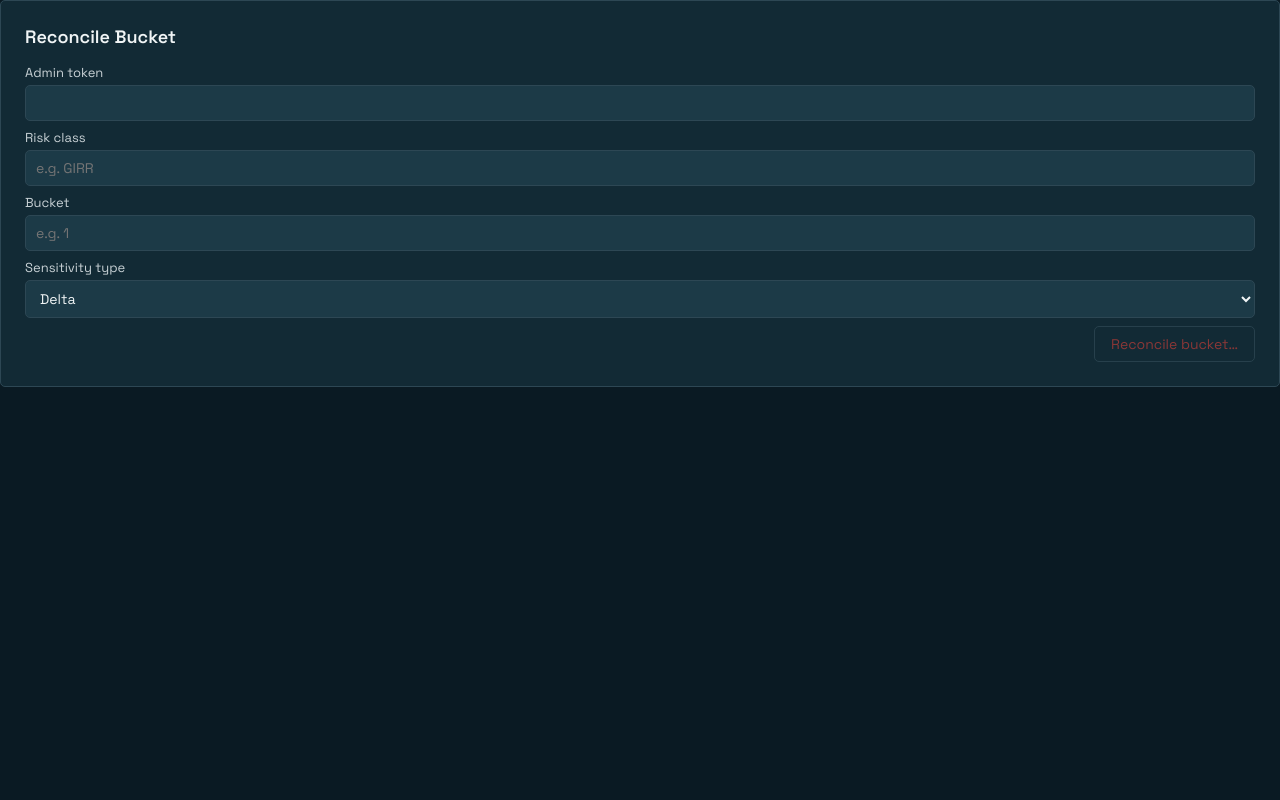
Test case: <ReconcileBucketAction /> › opens the confirm modal and requires the operator to type RECONCILE
The image size is (1280, 800).
Type "secret" into the password field with test id "reconcile-token" at {"x": 640, "y": 103}, box [25, 85, 1255, 121]
Type "GIRR" into the field with test id "reconcile-risk-class" at {"x": 640, "y": 168}, box [25, 150, 1255, 186]
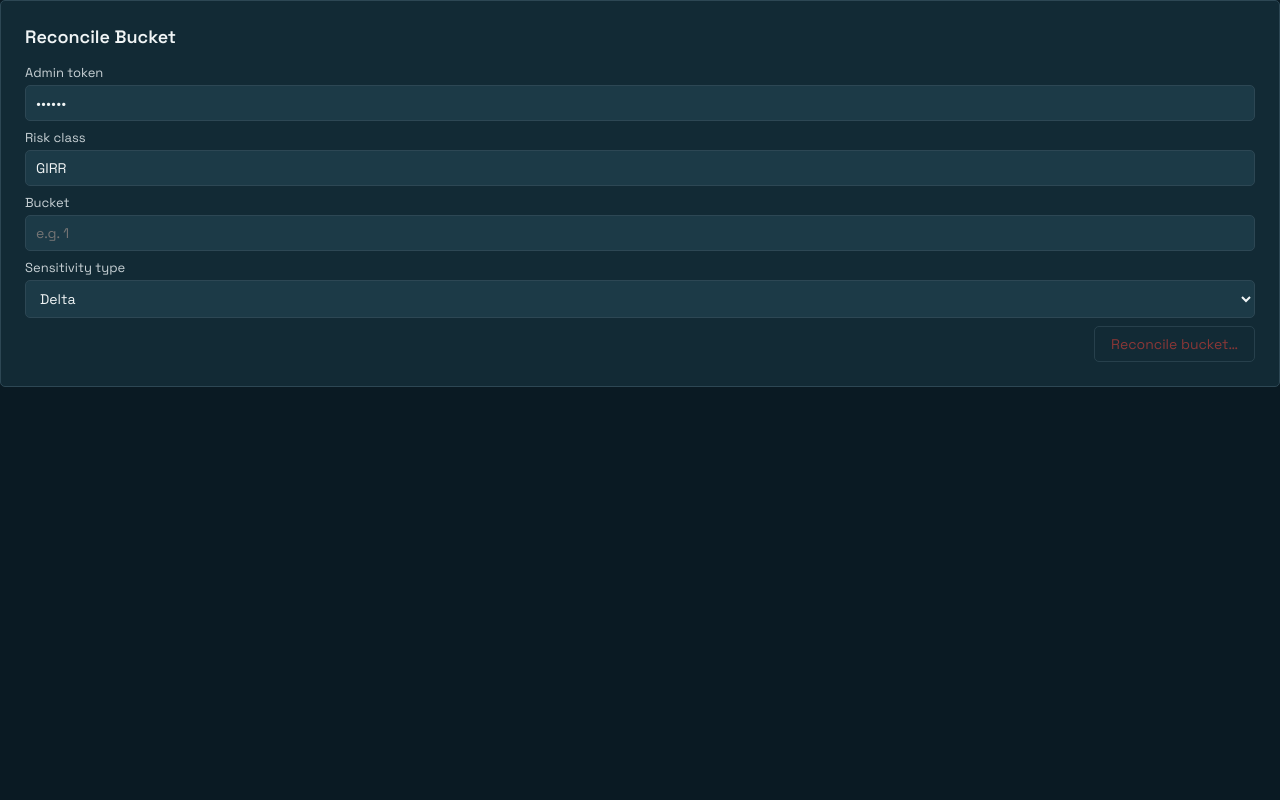
Type "1" into the field with test id "reconcile-bucket" at {"x": 640, "y": 233}, box [25, 215, 1255, 251]
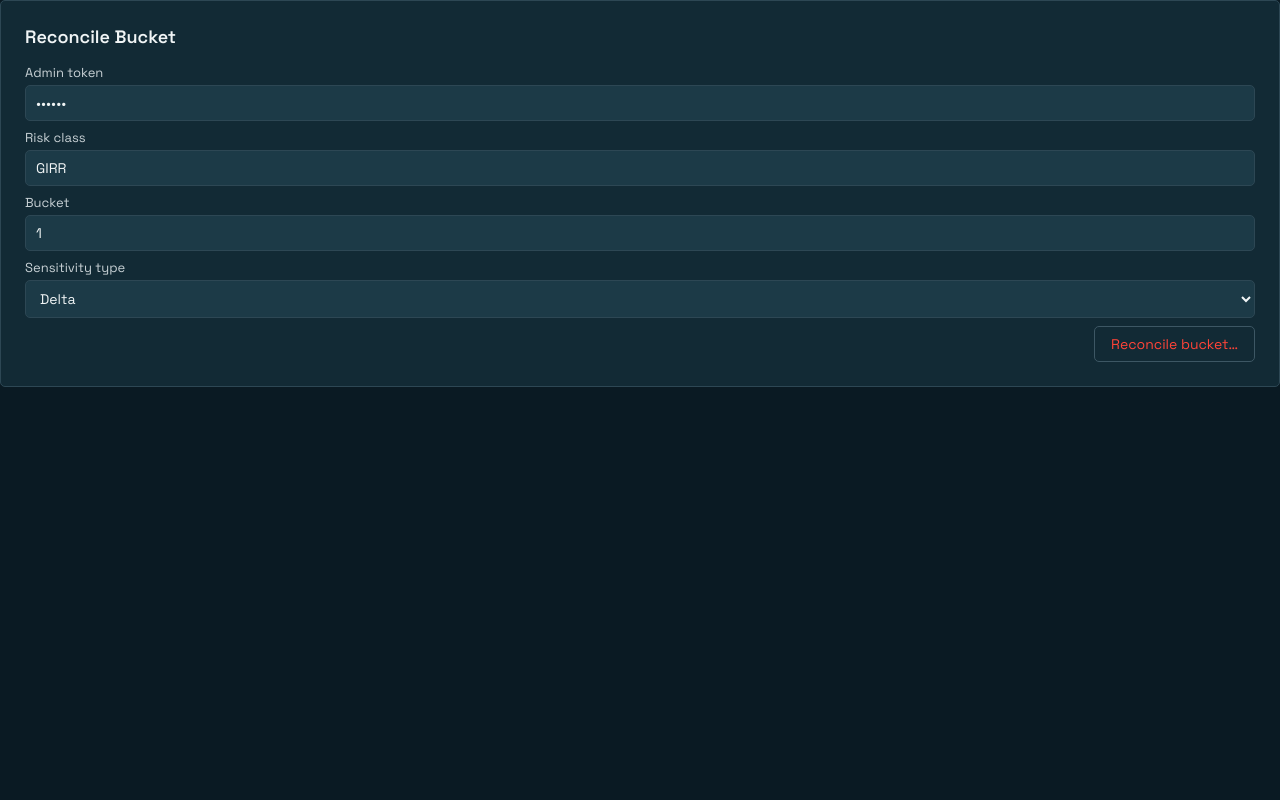
Click the button with test id "reconcile-submit" at {"x": 1175, "y": 344}, box [1094, 326, 1255, 362]
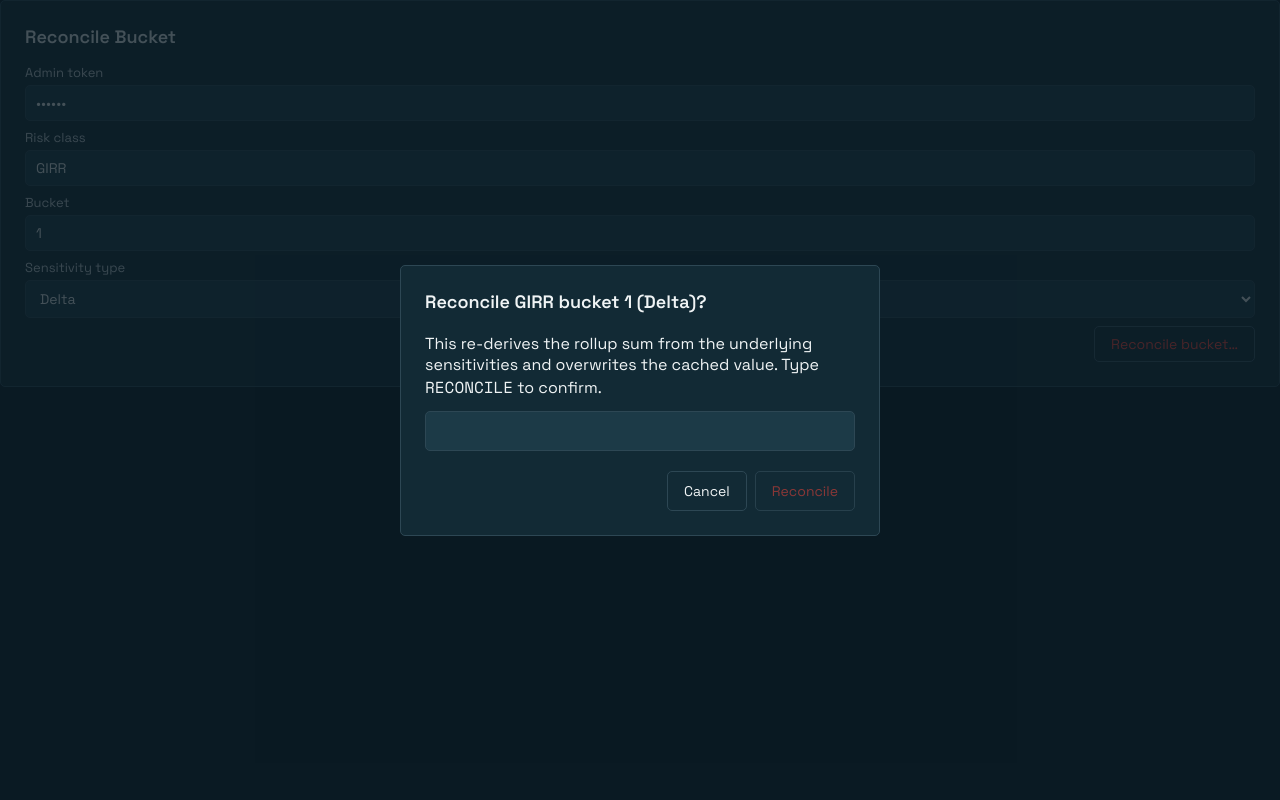
Check: the button with test id "reconcile-confirm" is disabled, box [755, 470, 855, 510]
Type "WRONG" into the field with test id "reconcile-confirm-input" at {"x": 640, "y": 430}, box [425, 410, 855, 450]
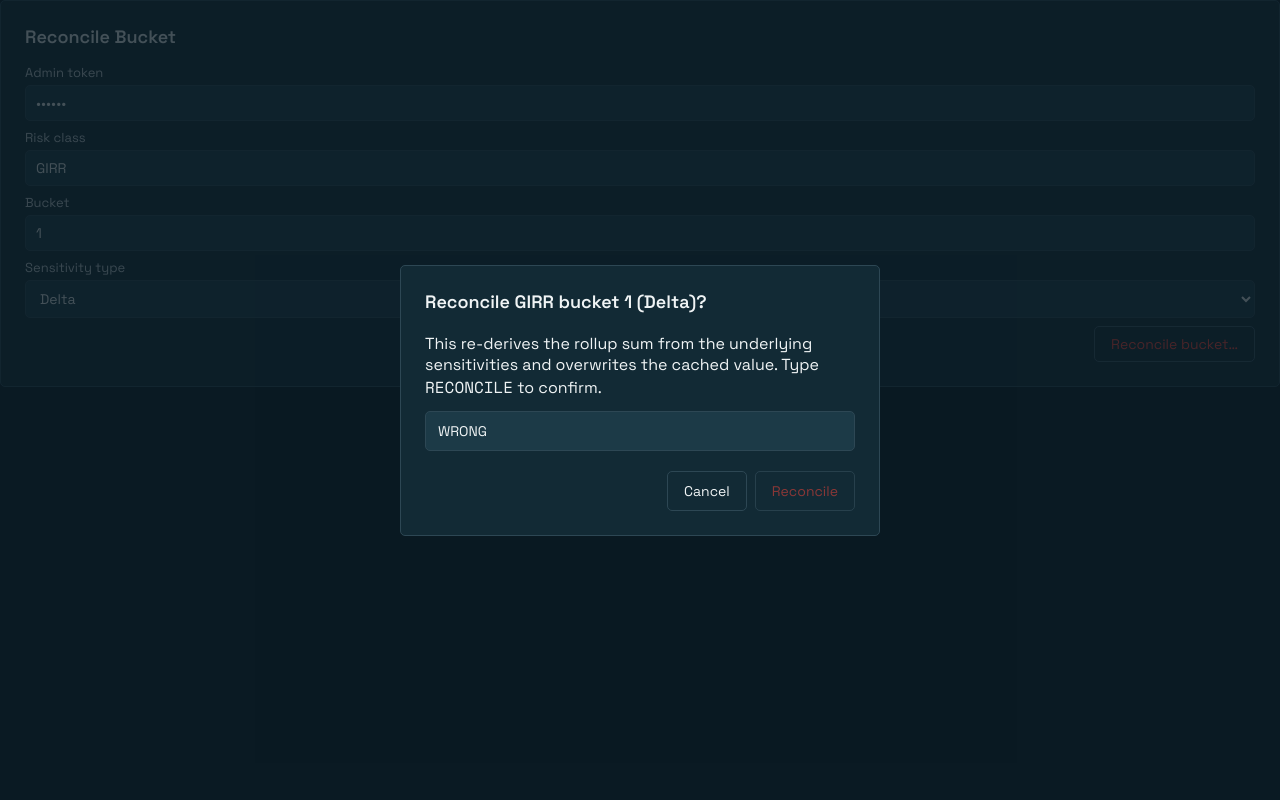
Check: the button with test id "reconcile-confirm" is disabled, box [755, 470, 855, 510]
Replace the text in the field with test id "reconcile-confirm-input" with "RECONCILE" at {"x": 640, "y": 430}, box [425, 410, 855, 450]
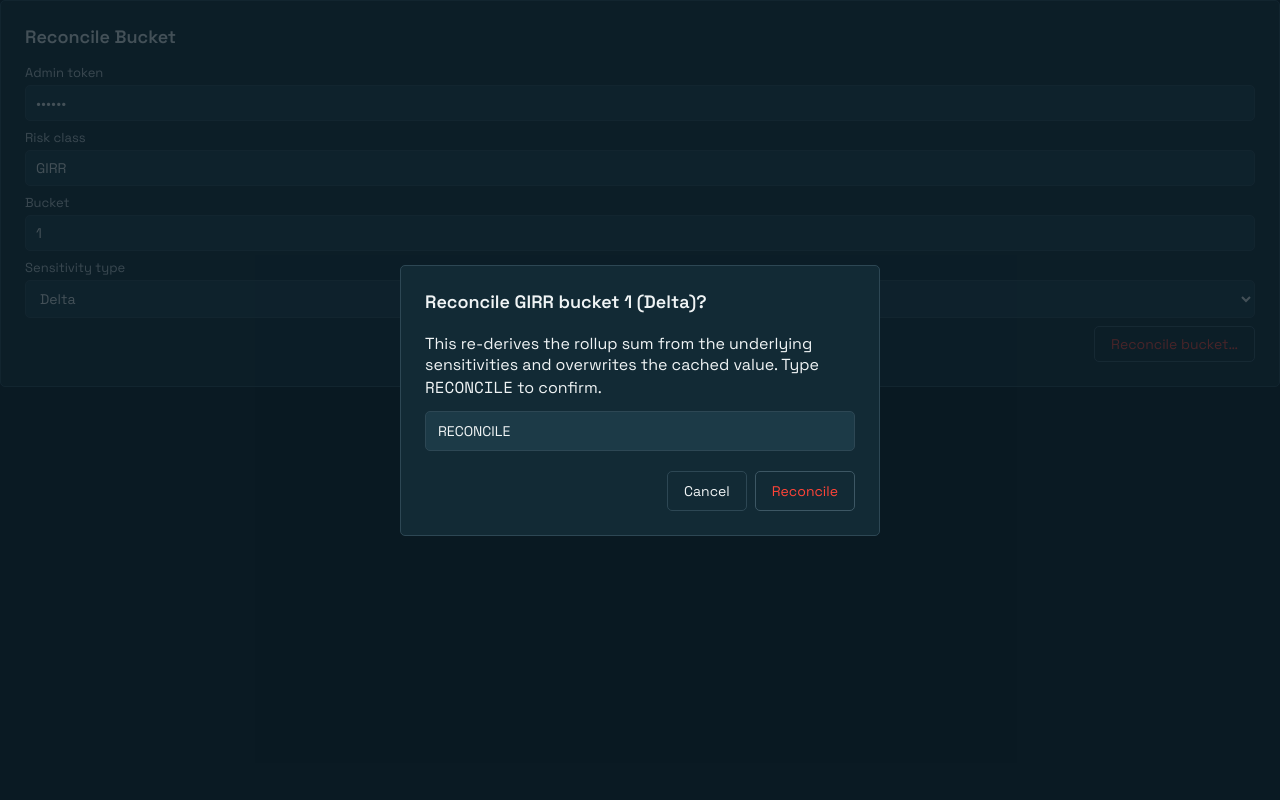
Check: the button with test id "reconcile-confirm" is enabled
Click the button with test id "reconcile-confirm" at {"x": 805, "y": 490}, box [755, 470, 855, 510]
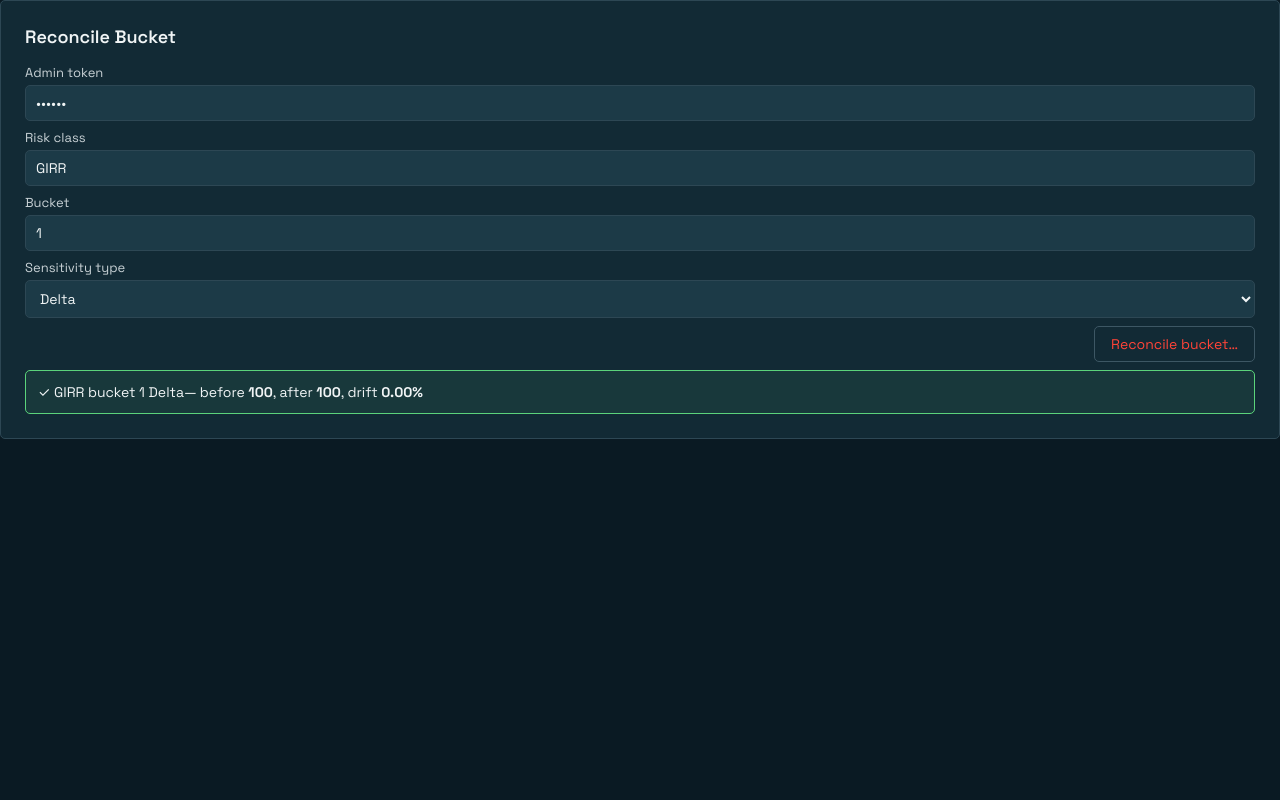
Check: the element with test id "reconcile-confirm-modal" is gone
Check: the message with test id "reconcile-result" shows "GIRR", box [54, 383, 84, 401]
